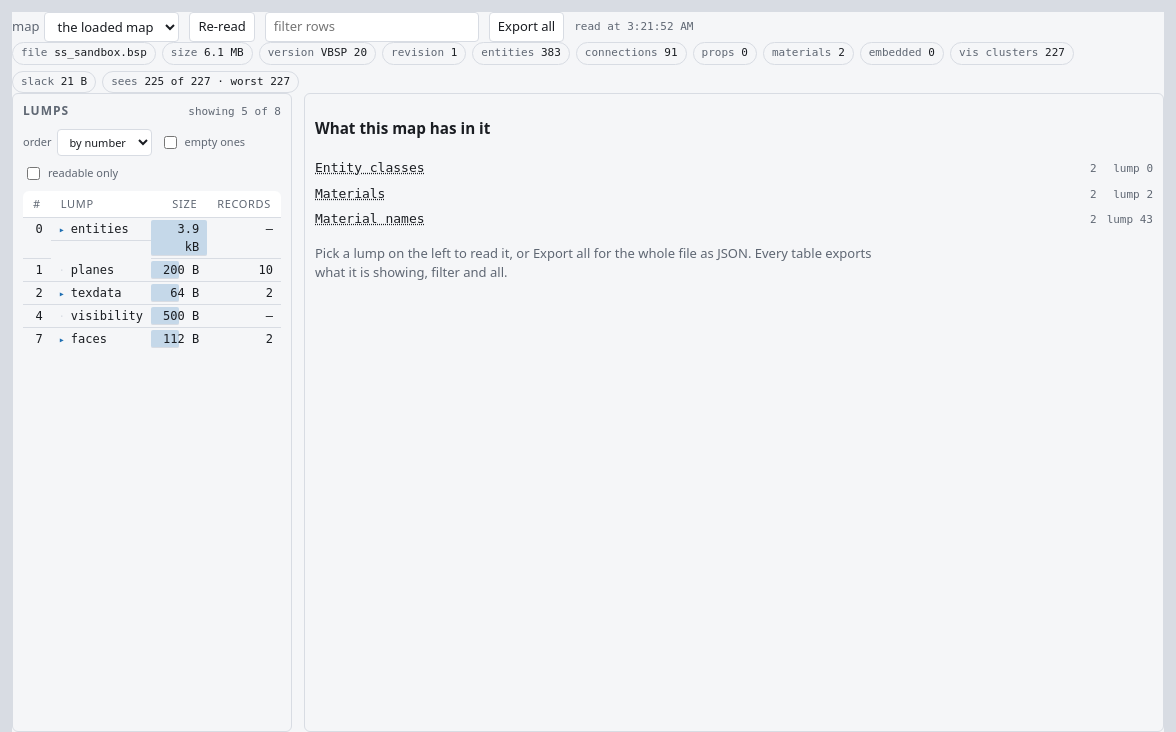
Test case: reading a lump › closes a lump by clicking it again
Check: the text "ss_sandbox.bsp" is shown, box [54,46,147,59]
Step 1. Click the row "2 texdata 64 B 2" → (152, 293), box [23,282,281,304]
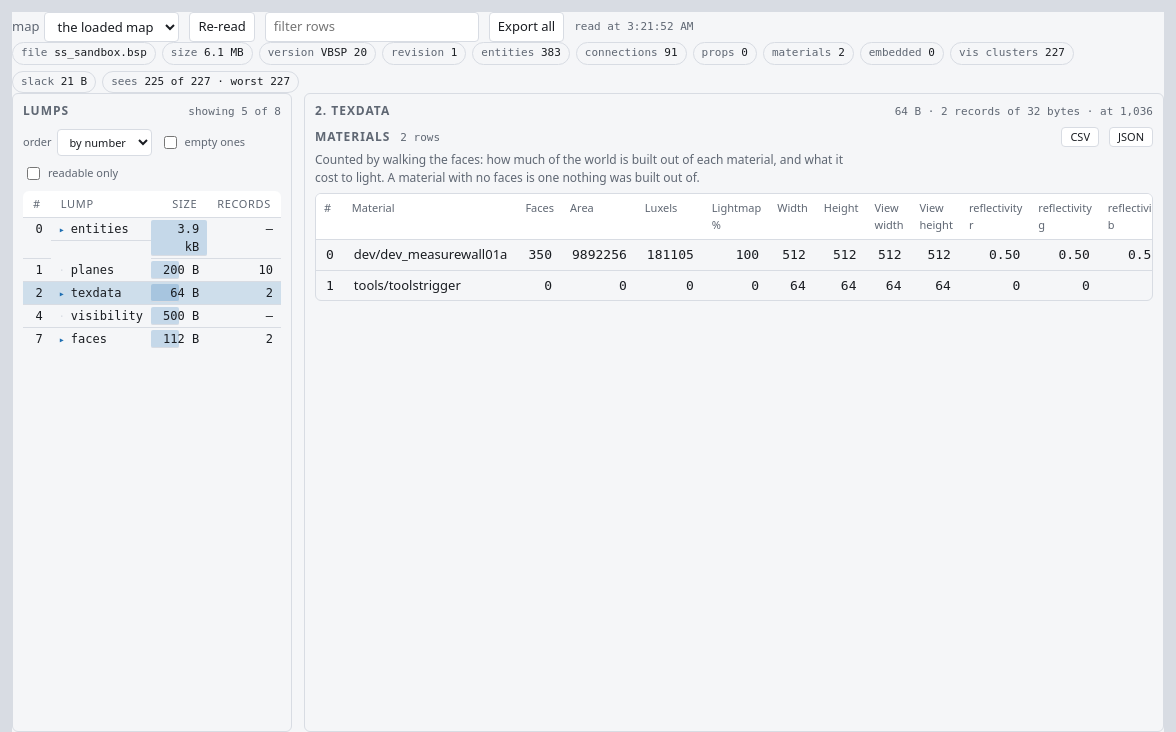
Step 2. Click the row "2 texdata 64 B 2" → (152, 293), box [23,282,281,304]
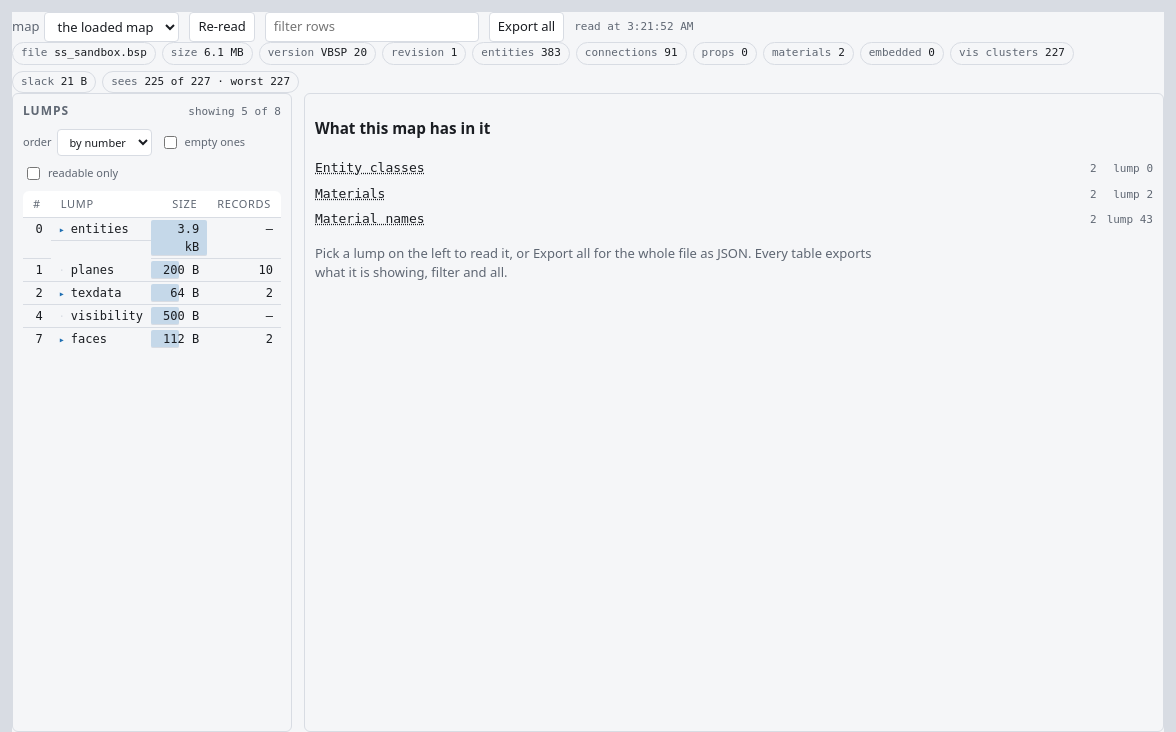
Check: the heading "What this map has in it" is shown, box [315,118,490,138]
